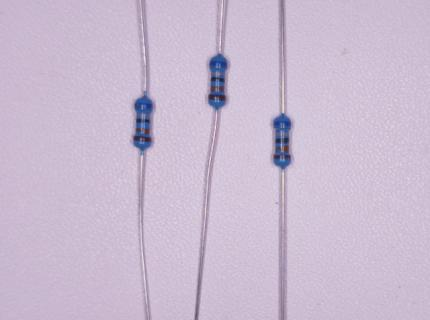Black band: (275, 138, 289, 144), (211, 77, 225, 82), (136, 119, 150, 123)
Blue band: (134, 102, 153, 108), (210, 61, 227, 67), (274, 121, 291, 126)
Brown band: (209, 94, 226, 101), (133, 136, 152, 142), (274, 155, 291, 159)
Grey band: (211, 71, 225, 76), (275, 131, 289, 136), (137, 113, 150, 117)
Orange band: (211, 86, 225, 93), (276, 145, 289, 152), (136, 128, 150, 134)
